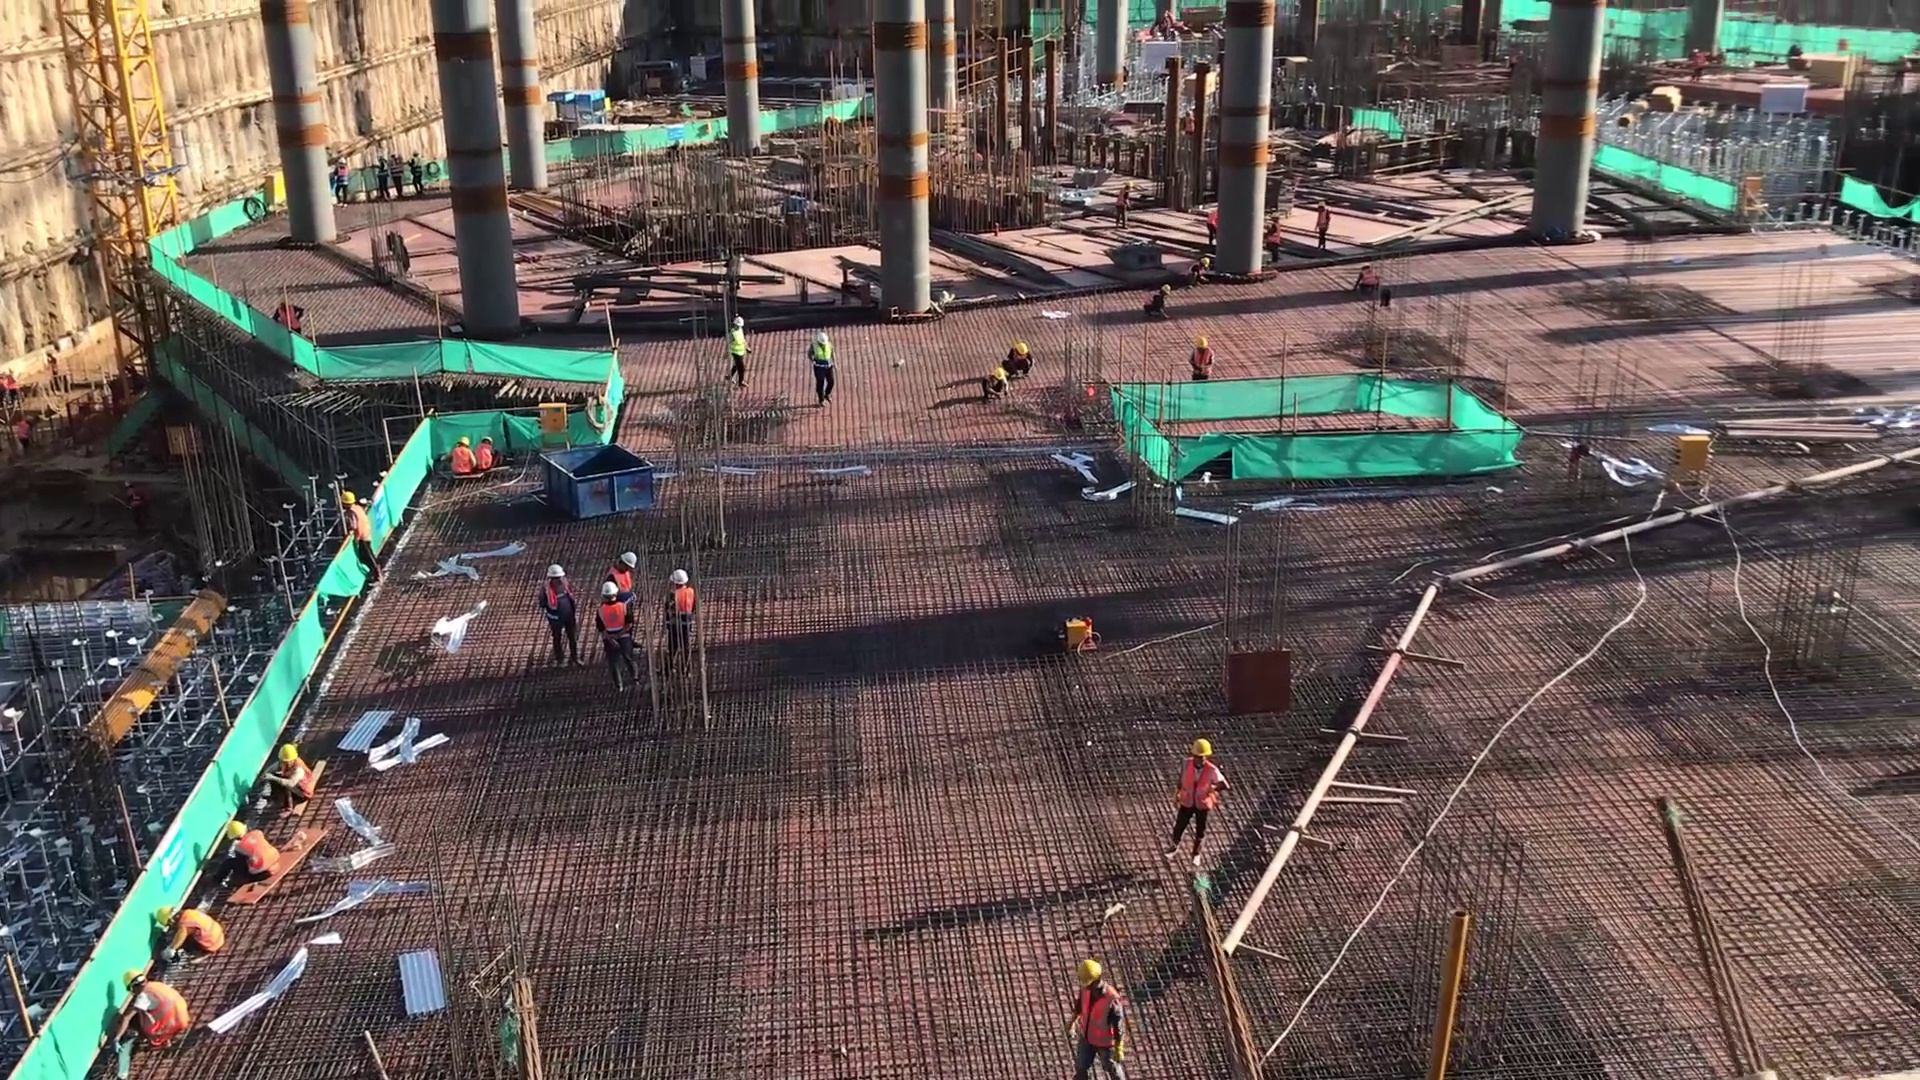helmet: (1073, 955, 1106, 986), (219, 816, 251, 845), (270, 738, 301, 767), (594, 577, 623, 602), (665, 565, 692, 590), (1187, 734, 1213, 759), (119, 968, 147, 991), (542, 562, 569, 581), (156, 905, 177, 928), (335, 488, 359, 508), (618, 548, 638, 571), (811, 329, 830, 349), (1192, 332, 1211, 352), (1015, 342, 1031, 359), (477, 431, 493, 449), (1198, 253, 1213, 269), (730, 312, 746, 329), (1265, 210, 1282, 224), (988, 367, 1005, 381), (1356, 261, 1374, 272), (1159, 283, 1173, 297), (1316, 197, 1328, 212), (456, 437, 472, 448), (1124, 180, 1135, 190)
person: (1048, 949, 1135, 1080), (1160, 726, 1237, 870), (107, 962, 198, 1060), (589, 578, 642, 699), (210, 811, 285, 888), (149, 901, 230, 970), (334, 487, 386, 592), (534, 557, 582, 672), (655, 559, 702, 672), (254, 737, 321, 813), (800, 327, 843, 410), (604, 540, 642, 616), (721, 309, 755, 384), (1184, 332, 1223, 387), (442, 434, 478, 483), (973, 364, 1013, 403), (999, 338, 1035, 381), (1348, 259, 1385, 298), (468, 429, 497, 478), (1310, 196, 1335, 252), (1141, 281, 1175, 321), (1177, 252, 1213, 289), (1260, 210, 1285, 262), (1114, 178, 1136, 231)
vest: (1070, 985, 1123, 1054), (137, 984, 192, 1043), (180, 904, 226, 957), (1175, 755, 1217, 812), (237, 831, 282, 874), (541, 580, 580, 628), (592, 603, 630, 645), (665, 584, 697, 633), (282, 762, 315, 800), (608, 567, 638, 605), (344, 505, 373, 544), (810, 347, 838, 379), (1190, 347, 1215, 379), (725, 328, 750, 359), (449, 445, 472, 476), (473, 447, 493, 473), (1356, 269, 1379, 288), (1313, 209, 1330, 234), (1264, 224, 1282, 248), (1114, 188, 1129, 210)
